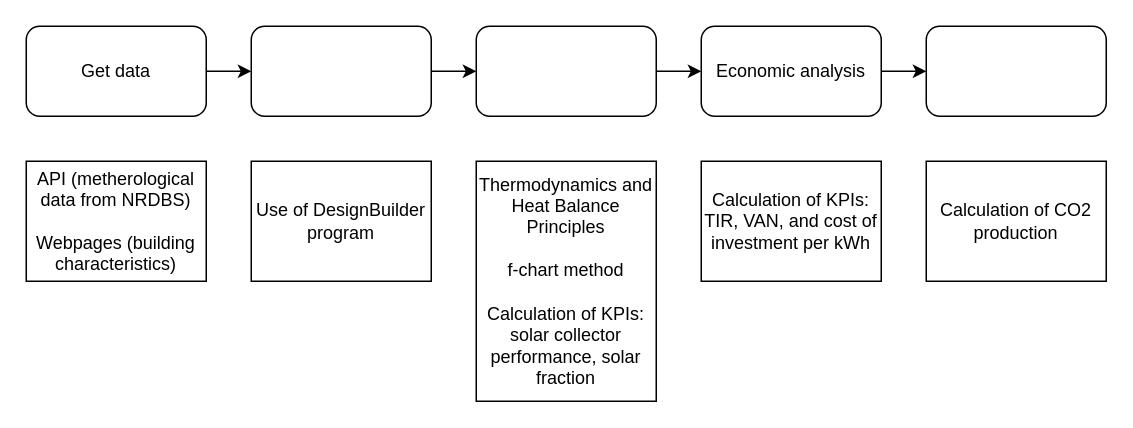
Image size: 1133x428. Some labels were removed from this diagram. Each missing label, with the box of its shape:
Enviromental analysis: (925, 25, 1106, 116)
Sizing of the solar plant: (475, 25, 656, 116)
Thermal demand calculation: (250, 25, 431, 116)
